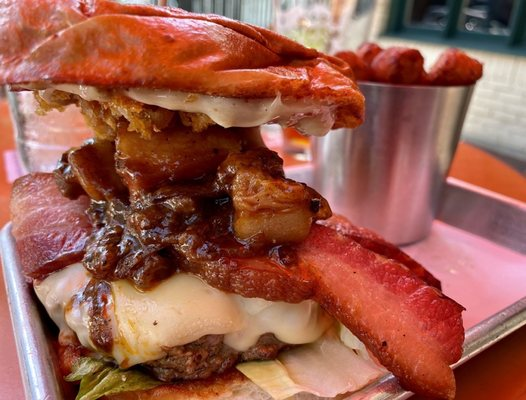soup: (1, 7, 492, 394)
